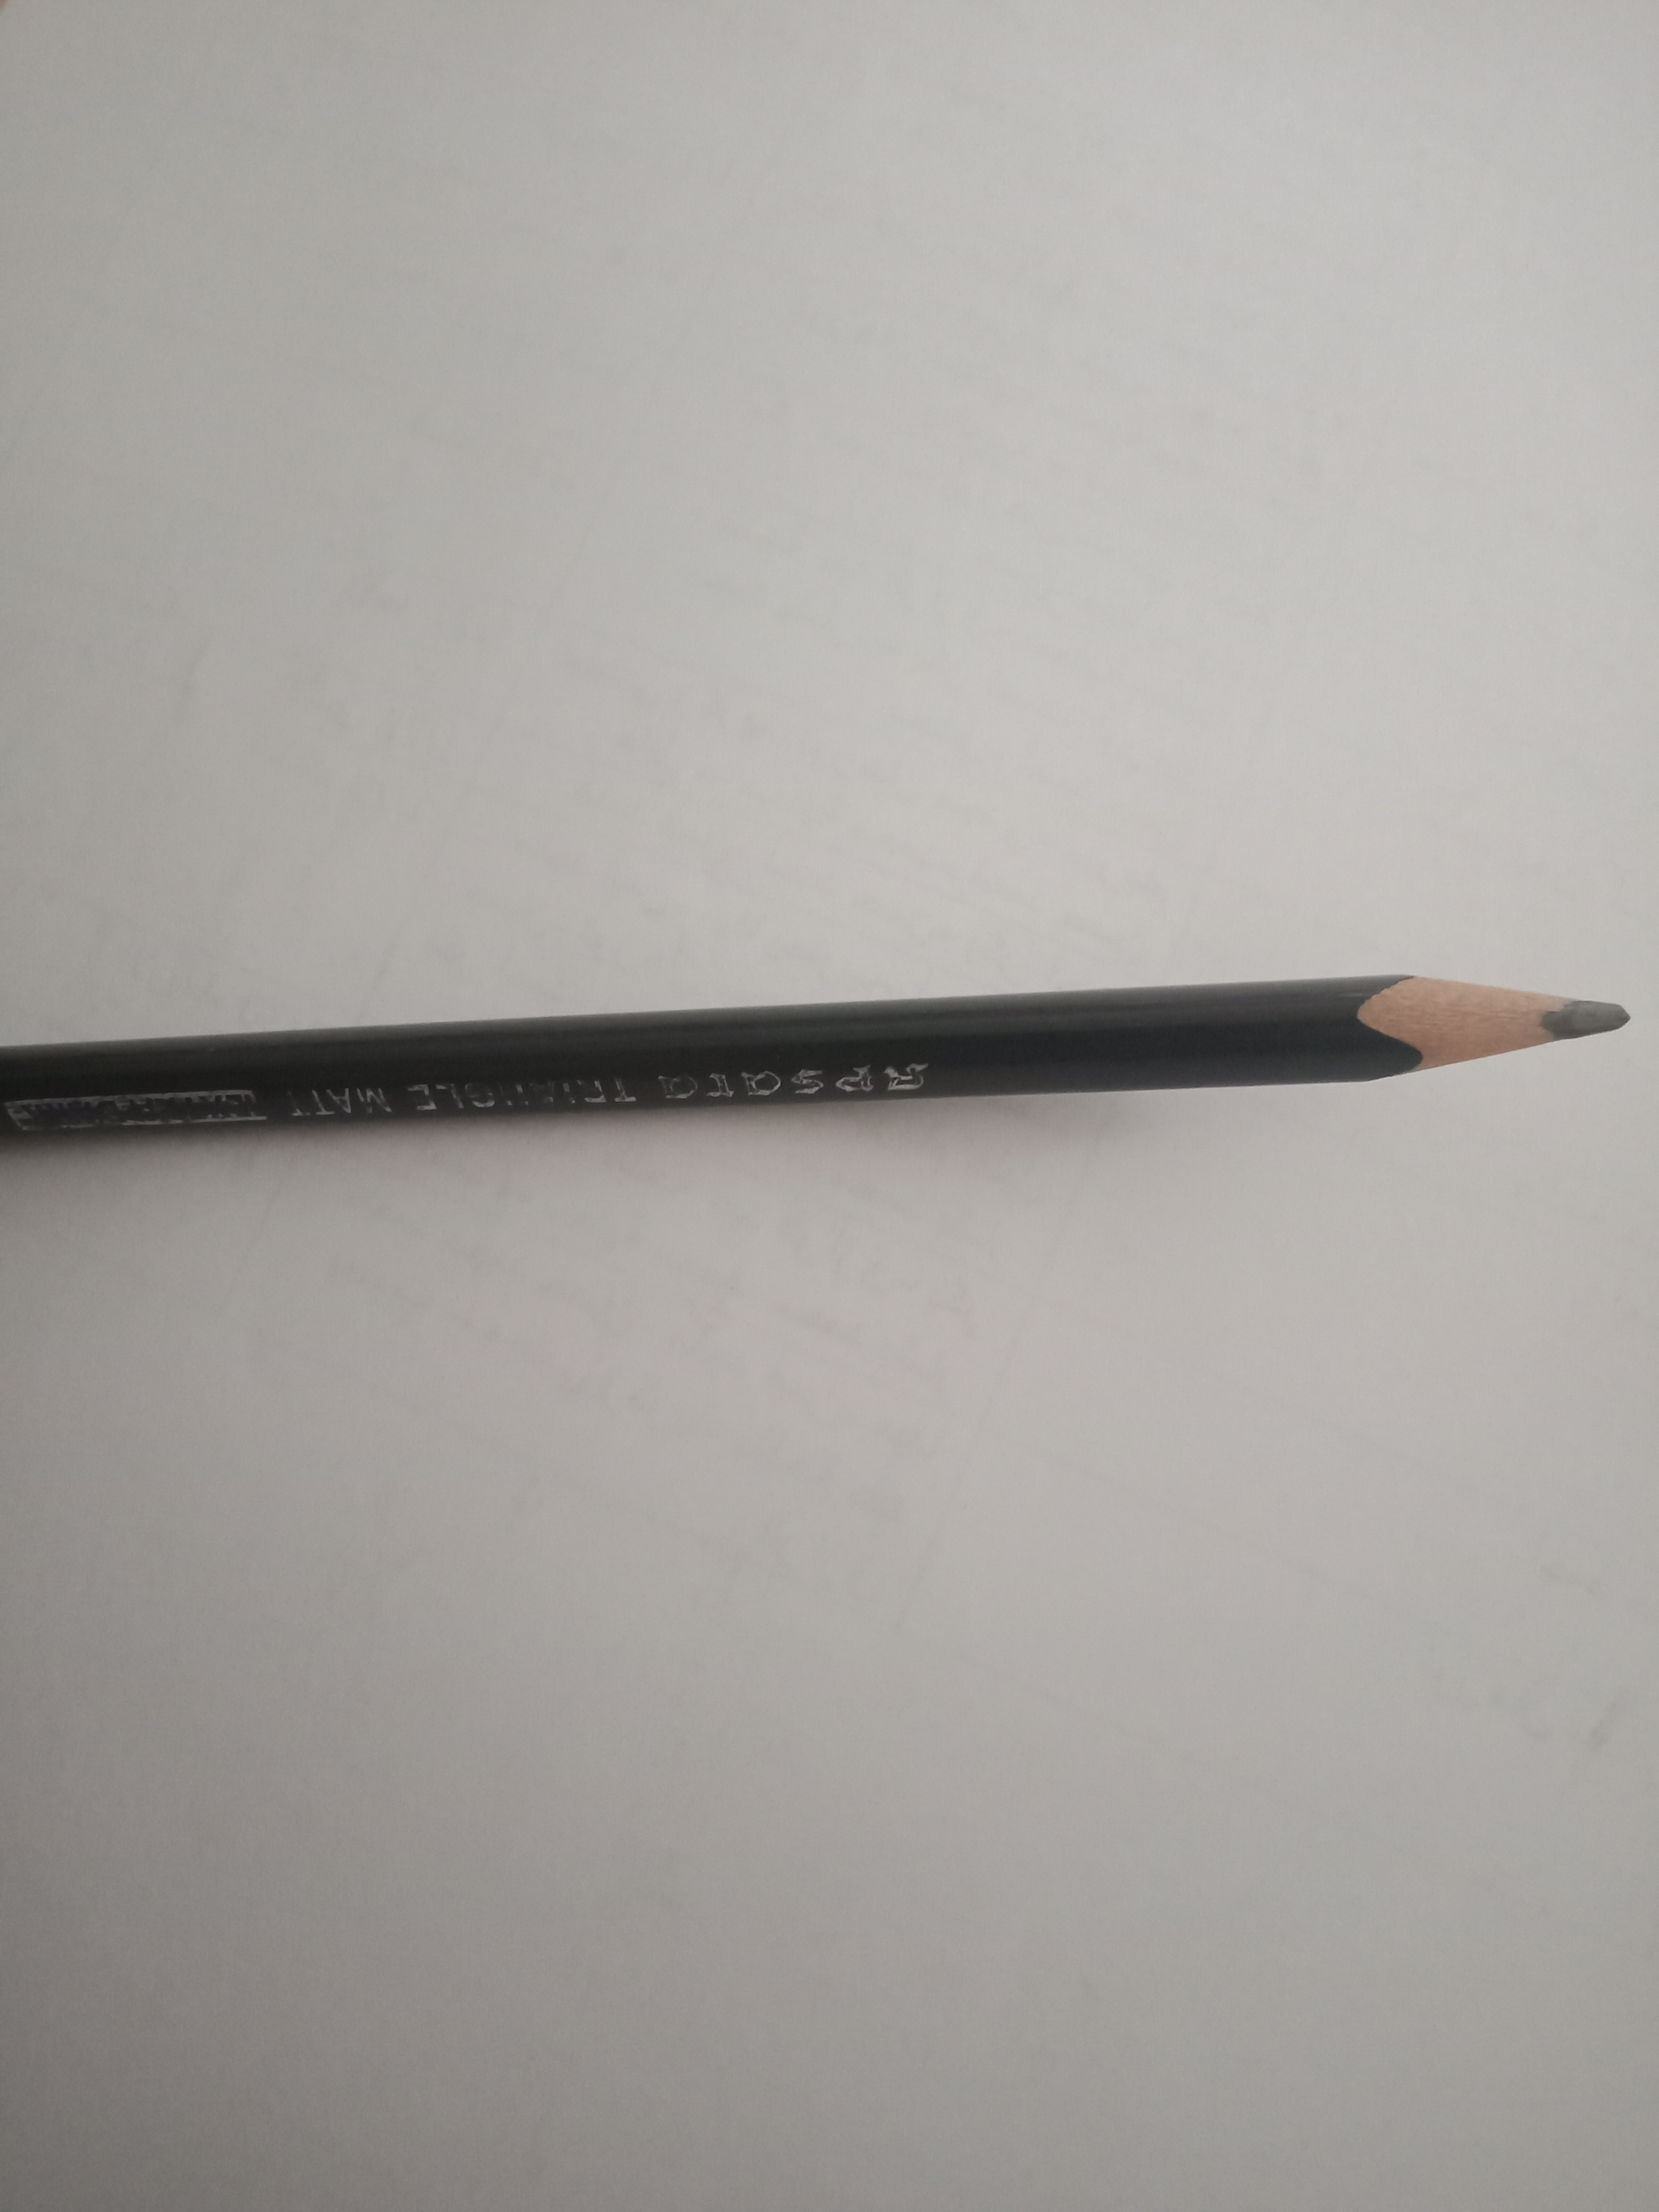pen_tip: (1300, 918, 1642, 1123)
